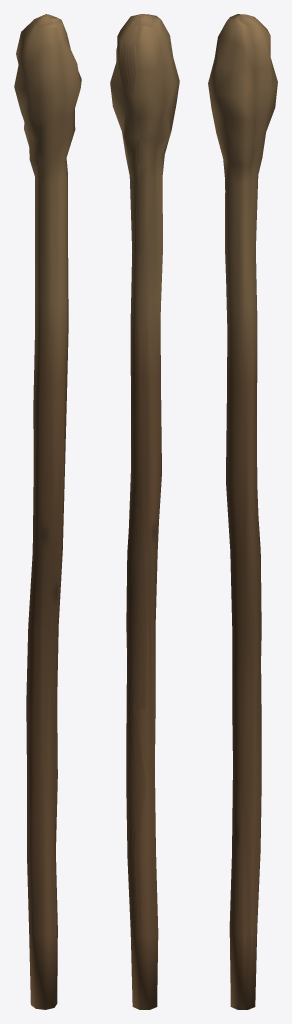
Rendered from mm6_pmn2_staff.glb.
3 renders of one model, left to right at view 1: azimuth 90°, elevation 25°; view 2: azimuth 150°, elevation 25°; view 3: azimuth 330°, elevation 25°, orthographic.
Parts seen in each view (by area): view 1: Staff; view 2: Staff; view 3: Staff.
Boxes of the visible parts, <box> form: Staff: <box>14,14,81,1009</box>; Staff: <box>110,14,179,1009</box>; Staff: <box>208,14,277,1009</box>.
Size of the model in its own units: 0.0965 by 1.6 by 0.0992.
Materials: 1 (1 with a texture image).
